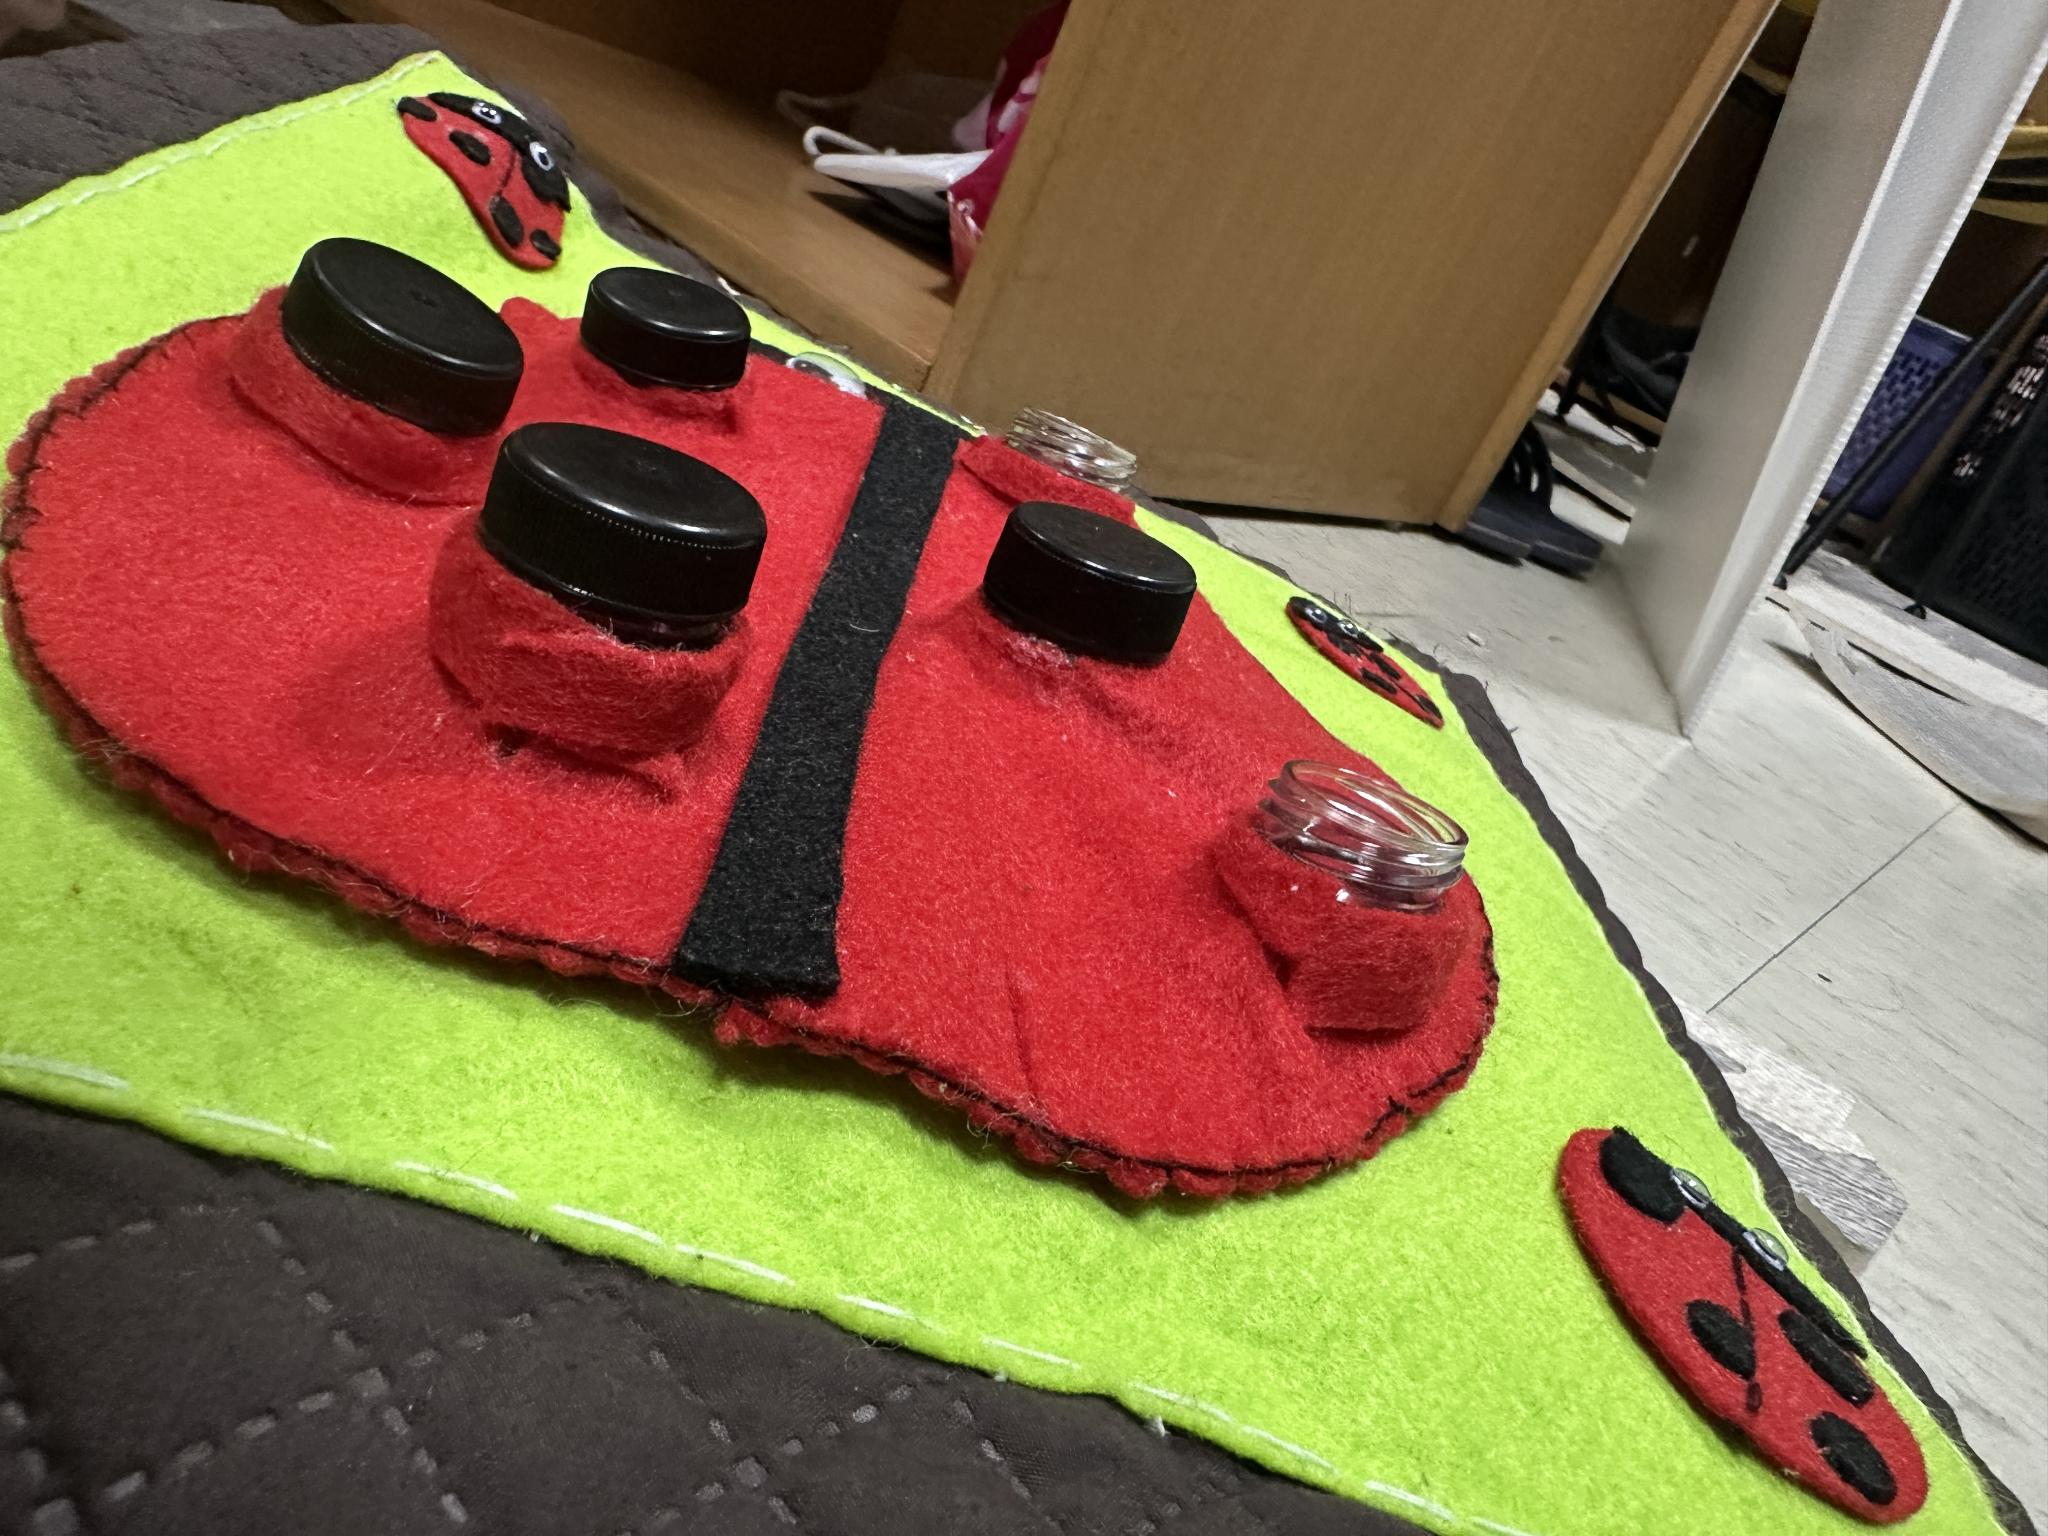cap_ok: (471, 395, 780, 763), (260, 211, 522, 481), (974, 474, 1216, 703), (564, 239, 769, 429)
